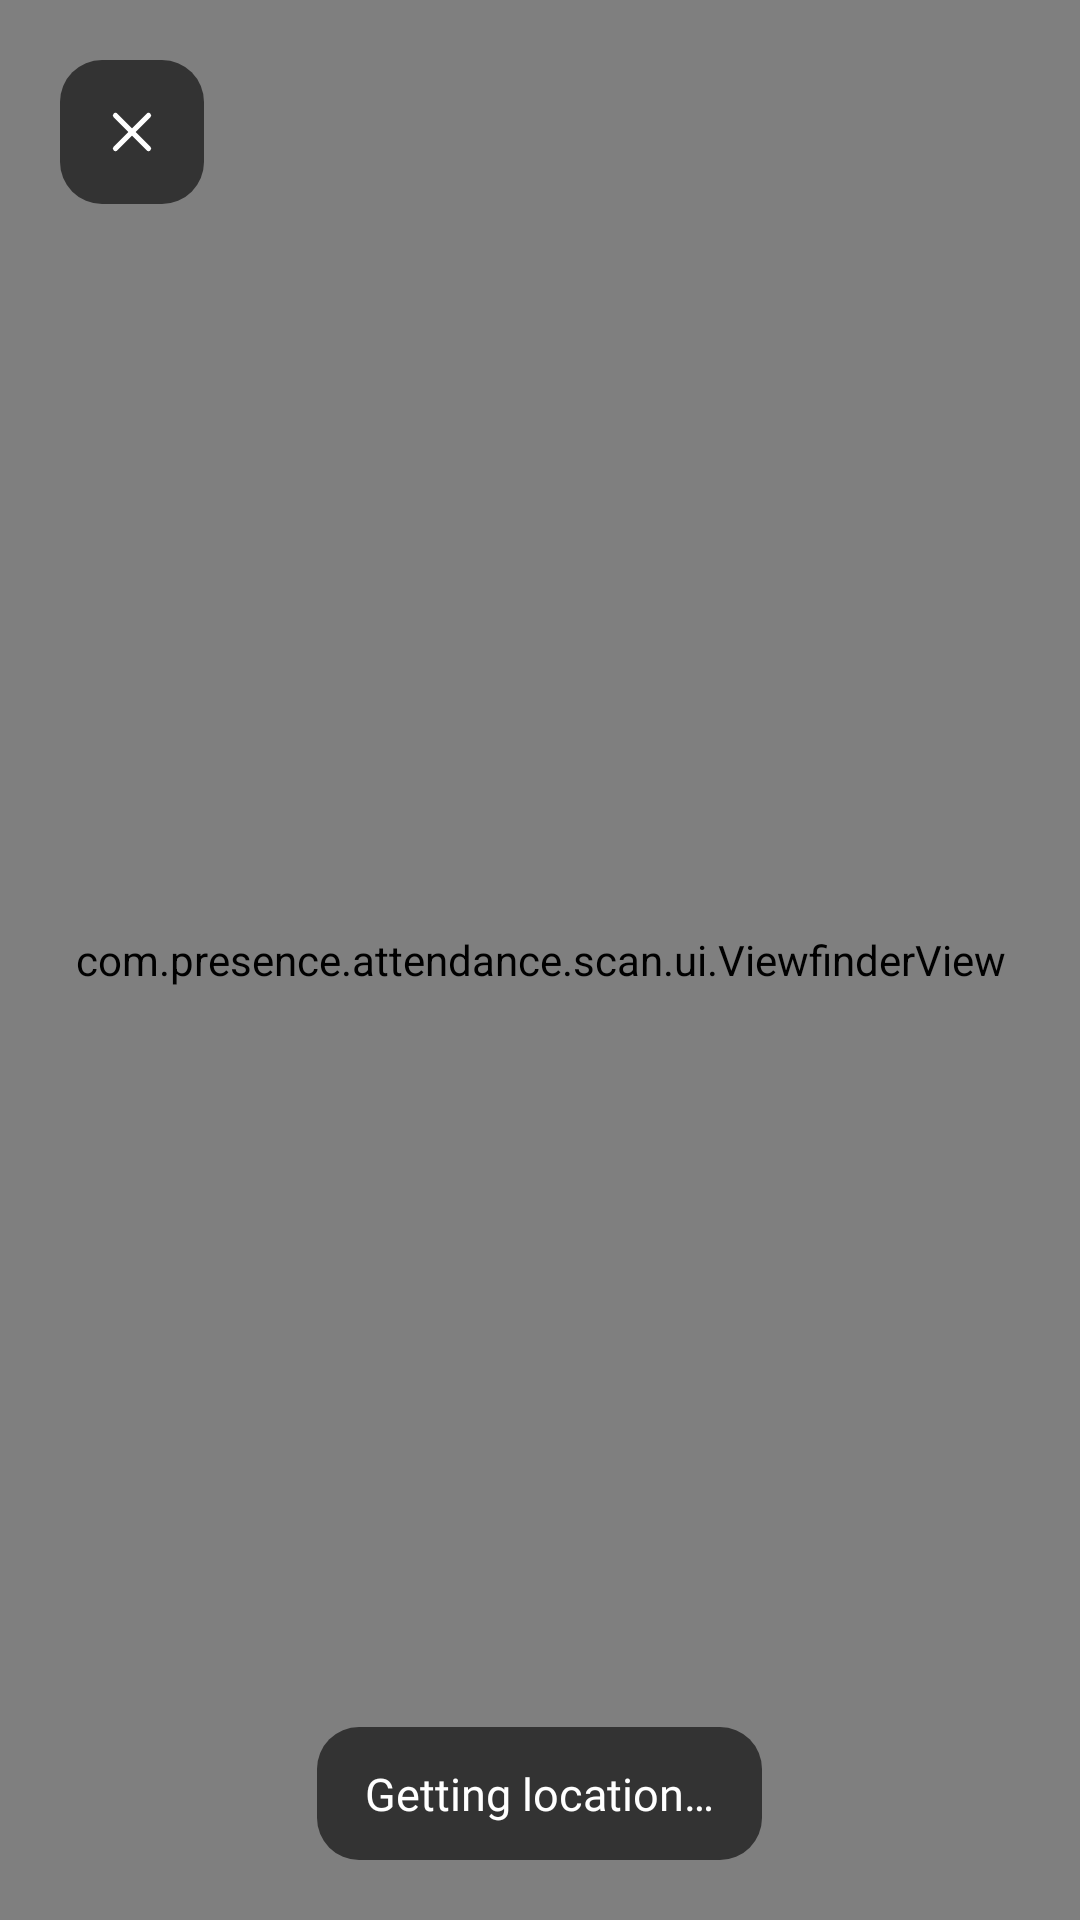

Icons on this 1080px×1920px Android screen, each with its box as [x1, y1, x2, y2]:
Close scanner: [60, 60, 204, 204]
